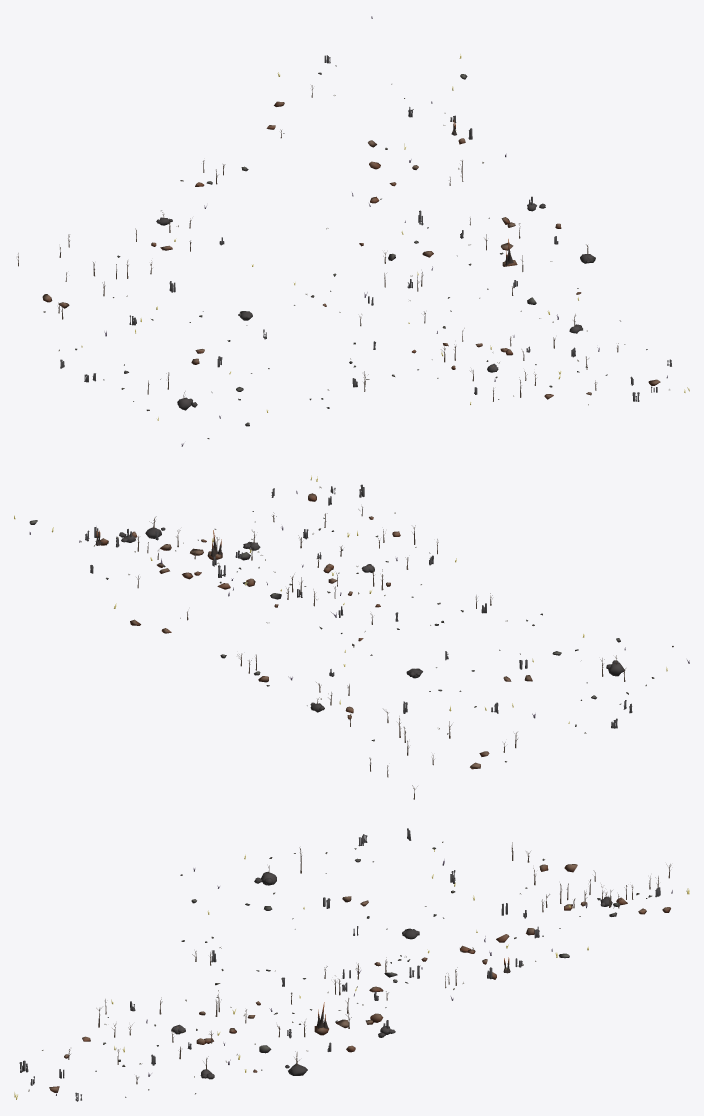
The model's file is ash_land_scatter_c20_29.glb.
The picture shows the model from 3 angles, top to bottom: view 1: azimuth 30°, elevation 25°; view 2: azimuth 150°, elevation 25°; view 3: azimuth 270°, elevation 25°; orthographic projection. The views are drawn at different scales.
Visible parts, largest first — view 1: ash_land_scatter_c20_29; view 2: ash_land_scatter_c20_29; view 3: ash_land_scatter_c20_29.
Boxes of the visible parts, bbox=[...] form: ash_land_scatter_c20_29: bbox=[17, 16, 689, 446]; ash_land_scatter_c20_29: bbox=[14, 475, 689, 799]; ash_land_scatter_c20_29: bbox=[14, 828, 689, 1101].
Bounding box in the file's own units: 241 × 85.29 × 256.
